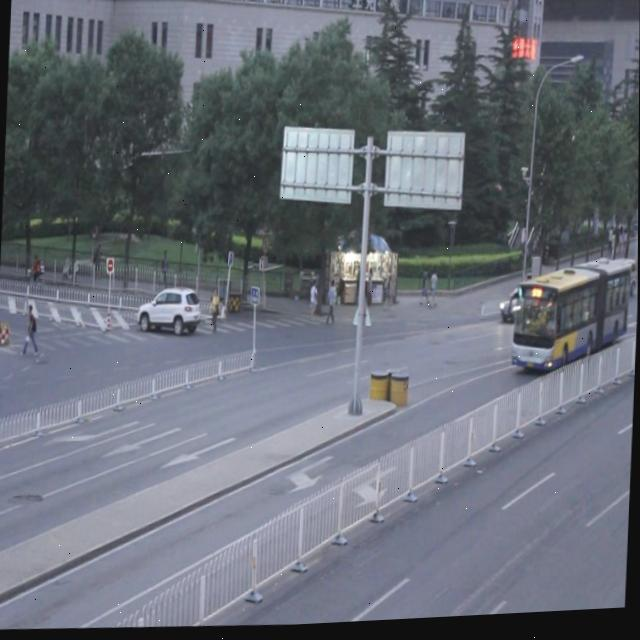car: (138, 282, 203, 338), (496, 289, 531, 324)
van: (514, 254, 629, 377)
